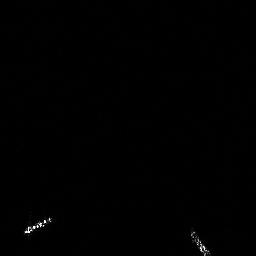ship: (24, 215, 51, 234), (190, 232, 210, 256)
